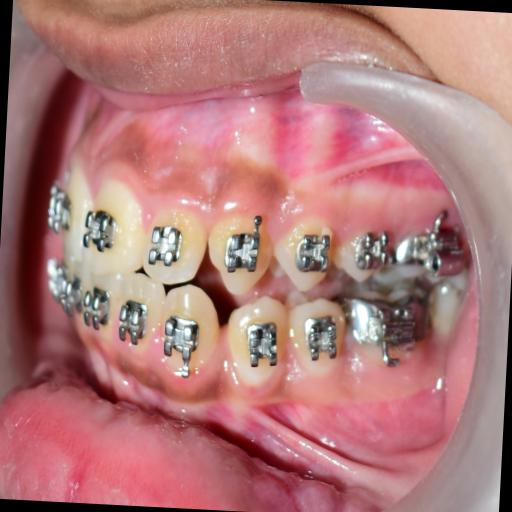correct_brace: (219, 292, 295, 403), (274, 209, 338, 294), (218, 212, 269, 279), (301, 310, 344, 370), (163, 311, 204, 371), (242, 318, 284, 372), (146, 218, 187, 270)
incorrect_brace: (136, 199, 210, 289), (292, 230, 334, 280)
